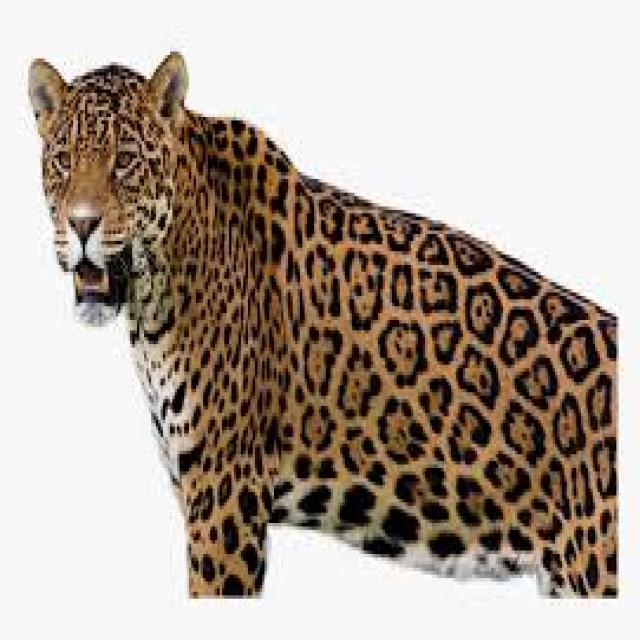Jaguar: (21, 52, 626, 609)
